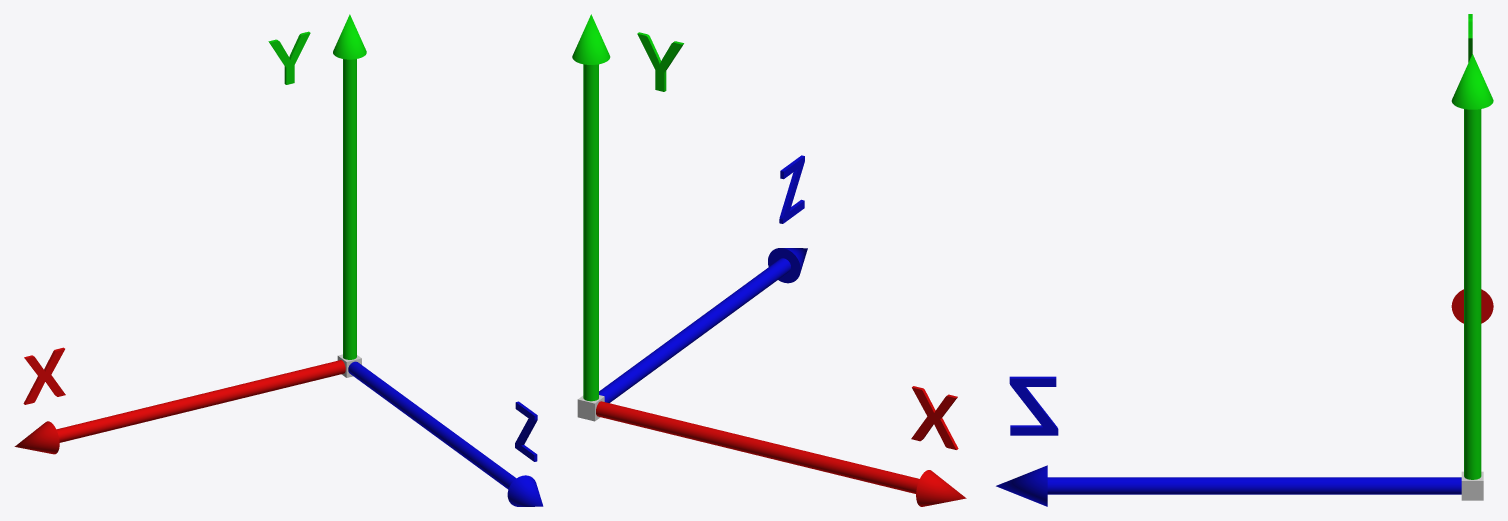
Rendered from axes.fbx.
3 renders of one model, left to right at view 1: azimuth 30°, elevation 25°; view 2: azimuth 150°, elevation 25°; view 3: azimuth 270°, elevation 25°, orthographic. The views are drawn at different scales.
Visible parts, largest first — view 1: axes; view 2: axes; view 3: axes.
Boxes of the visible parts, bbox=[...] form: axes: bbox=[14, 14, 543, 506]; axes: bbox=[572, 14, 966, 506]; axes: bbox=[996, 14, 1493, 506].
Bounding box in the file's own units: 100 × 100 × 100.
